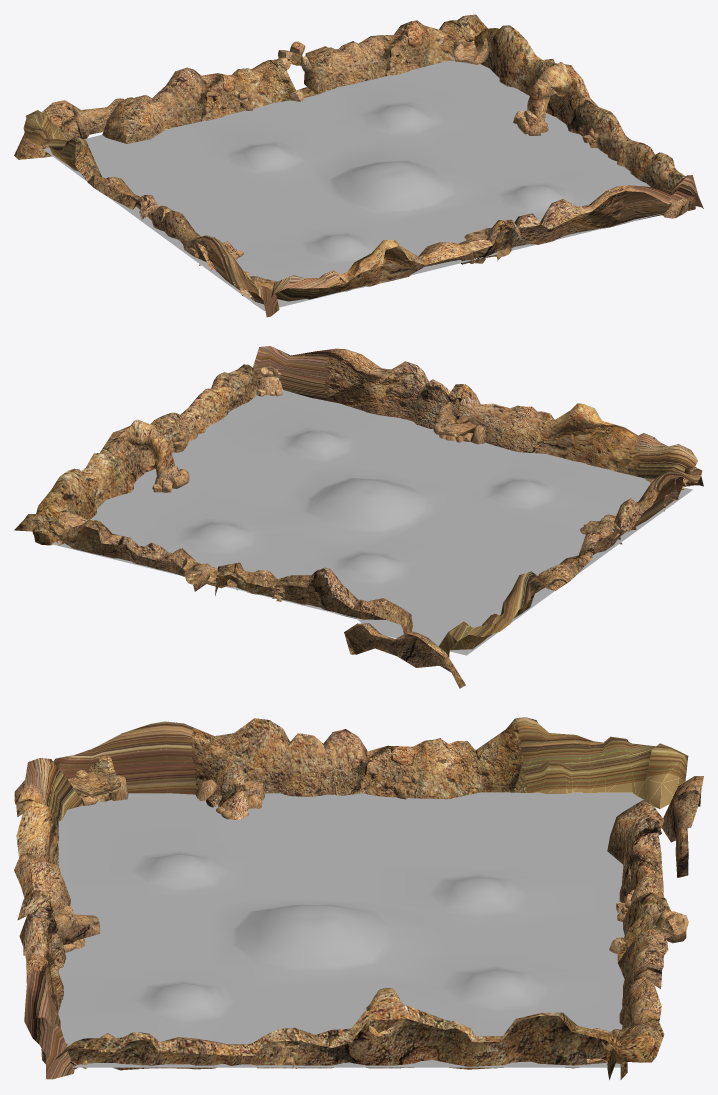
File: Env_Junk.fbx
3 views of the same model, one above another, from view 1: azimuth 30°, elevation 25°; view 2: azimuth 150°, elevation 25°; view 3: azimuth 270°, elevation 25° (orthographic). The views are drawn at different scales.
Visible parts, largest first — view 1: Groun, Mountain; view 2: Groun, Mountain; view 3: Groun, Mountain.
Part boxes in pixels (<box>): Groun: <box>43,60,664,310</box>; Mountain: <box>14,14,703,317</box>; Groun: <box>51,390,692,655</box>; Mountain: <box>14,346,703,688</box>; Groun: <box>58,792,643,1067</box>; Mountain: <box>14,717,703,1079</box>.
Bounding box in the file's own units: 271 × 40.07 × 257.
